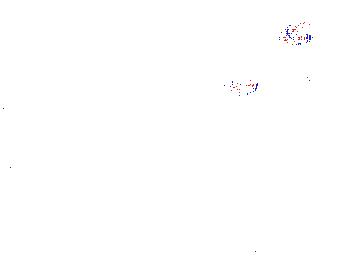red belly glassfish: (197, 76, 261, 99), (301, 67, 317, 85)
redtail glassfish: (170, 176, 214, 237), (274, 20, 314, 53)
siberian prawn: (33, 225, 106, 254)
